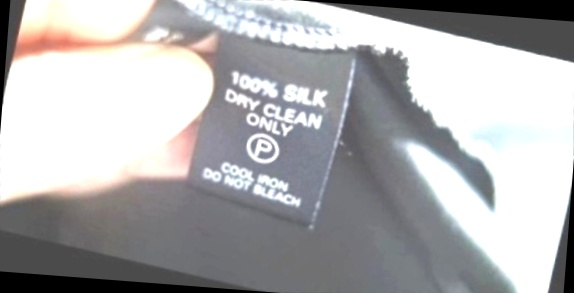dry_clean_any_solvent_except_trichloroethylene: (238, 122, 291, 173)
